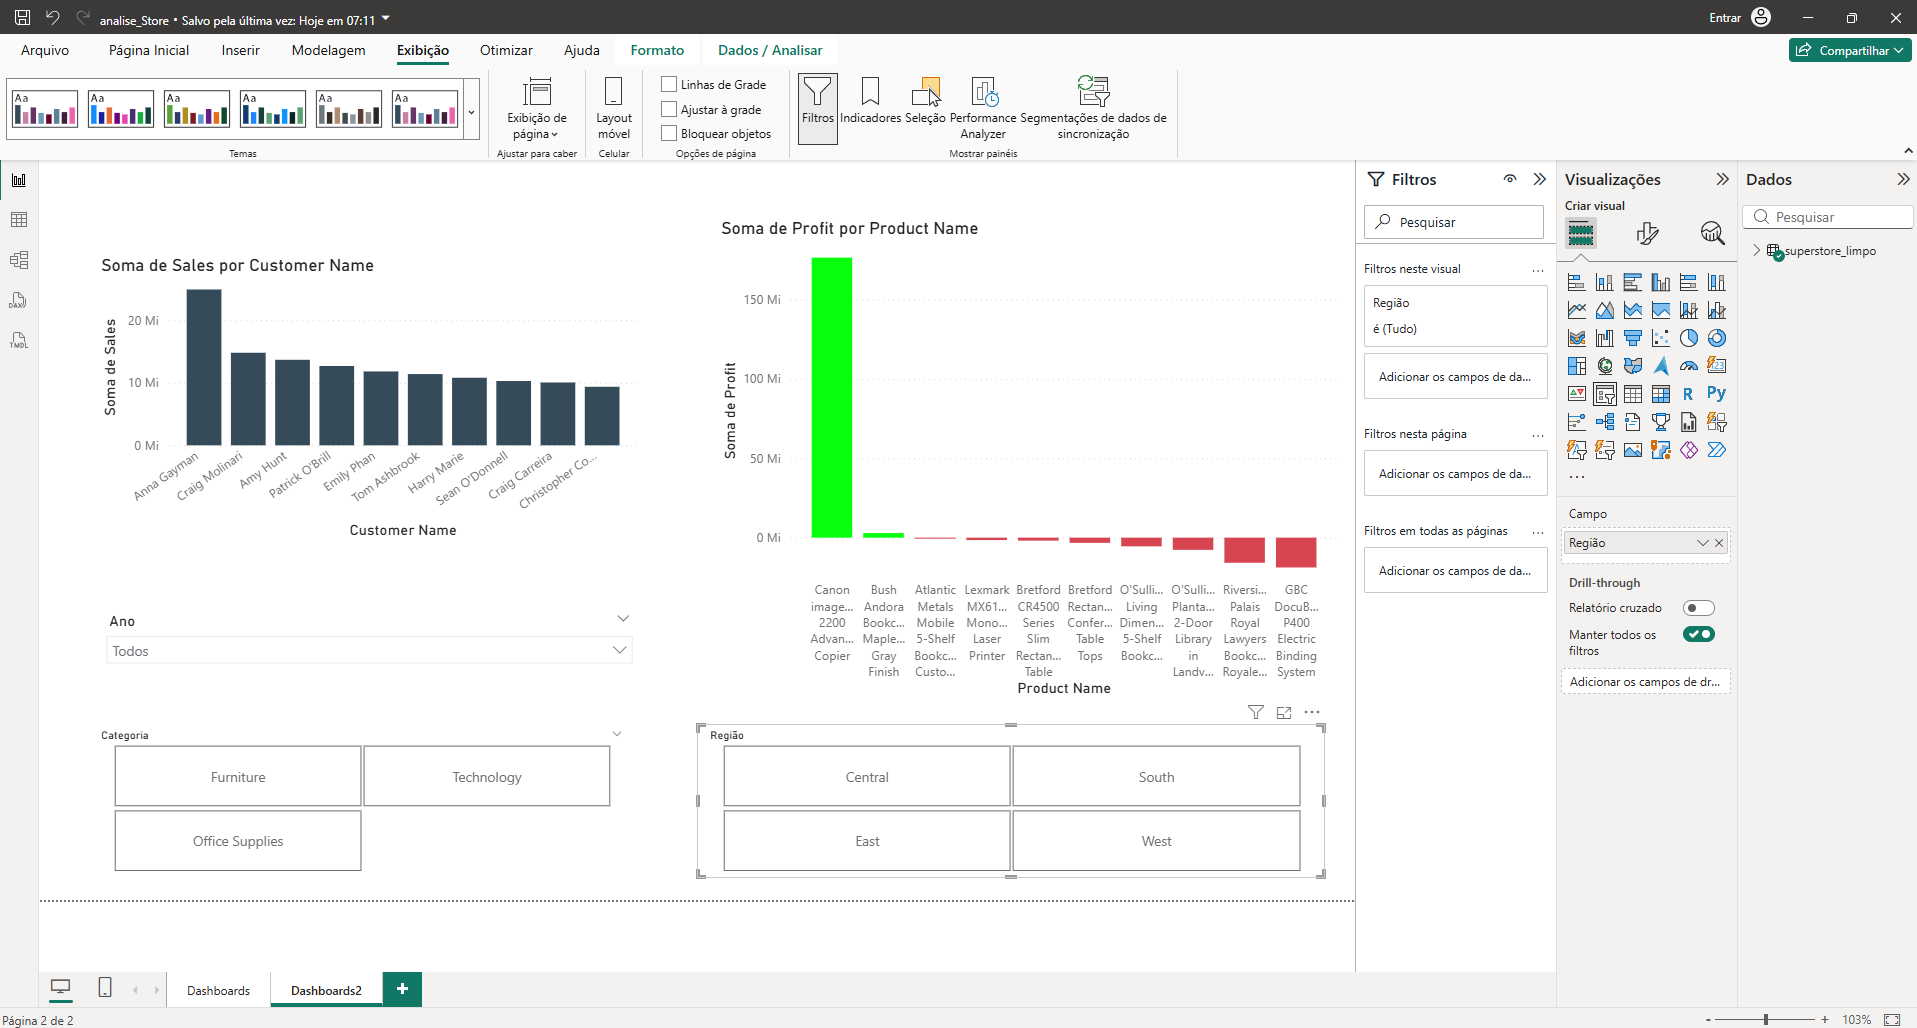

The page's visual inventory and layout, read from the dashboard file:
{"tool":"powerbi","page":{"name":"Dashboards2","canvas":[1280,720],"ordinal":1},"visuals":[{"type":"columnChart","fields":{"Category":["superstore_limpo.Product Name"],"Y":["Sum(superstore_limpo.Profit)"]},"box":[658.5,56.4,609.8,469.8],"z":0},{"type":"columnChart","fields":{"Y":["Sum(superstore_limpo.Sales)"],"Category":["superstore_limpo.Customer Name"]},"box":[55.4,92.4,532,280.1],"z":1000},{"type":"slicer","fields":{"Values":["superstore_limpo.Order Date.Variation.Hierarquia de datas.Ano"]},"box":[55.4,434.8,532,76.8],"z":2000},{"type":"slicer","fields":{"Values":["superstore_limpo.Category"]},"box":[47.7,548.6,532,149.8],"z":3000},{"type":"slicer","fields":{"Values":["superstore_limpo.Region"]},"box":[640,548.6,610.8,149.8],"z":4000}]}

Visuals, with their boxes on the page's 1280x720 design canvas (x1, y1, x2, y2). These are canvas units, not pixel positions in the 1917x1028 screenshot, which may show the page scaled, cropped or inside an application window:
columnChart - superstore_limpo.Product Name x Sum(superstore_limpo.Profit): region(658, 56, 1268, 526)
columnChart - Sum(superstore_limpo.Sales) x superstore_limpo.Customer Name: region(55, 92, 587, 372)
slicer - superstore_limpo.Order Date.Variation.Hierarquia de datas.Ano: region(55, 435, 587, 512)
slicer - superstore_limpo.Category: region(48, 549, 580, 698)
slicer - superstore_limpo.Region: region(640, 549, 1251, 698)
